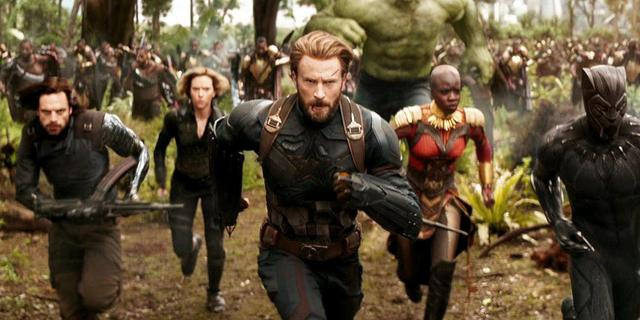bad: (291, 67, 343, 118), (33, 102, 69, 138)
